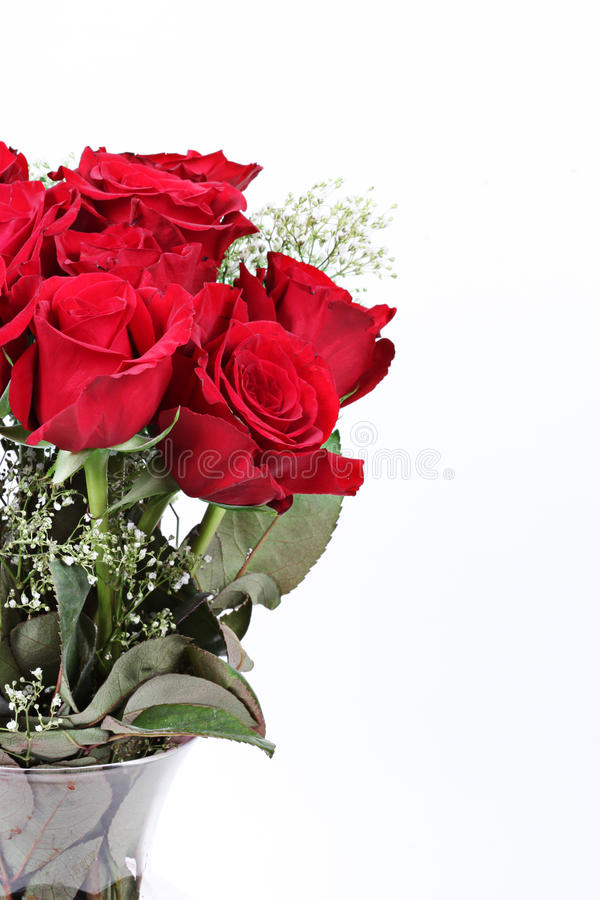RedRose: (186, 277, 363, 527), (0, 271, 198, 482), (41, 125, 267, 292), (241, 239, 426, 379), (0, 99, 92, 286)
